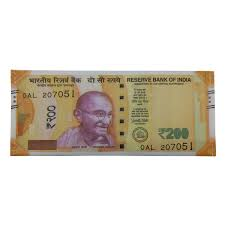twoHundred: (19, 83, 199, 145)
